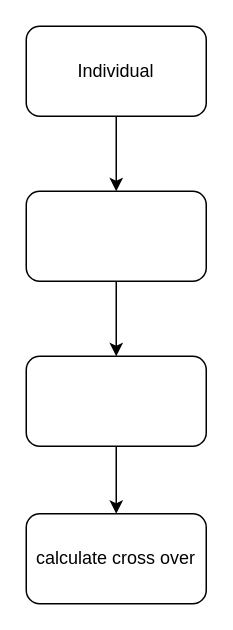
Image size: 233x630. Some labels were removed from this diagram. The centre of each missing label's shape, as x and y in pixels:
"calculate Critical Path" goes at point (115, 235).
"calculate min z" goes at point (115, 400).
